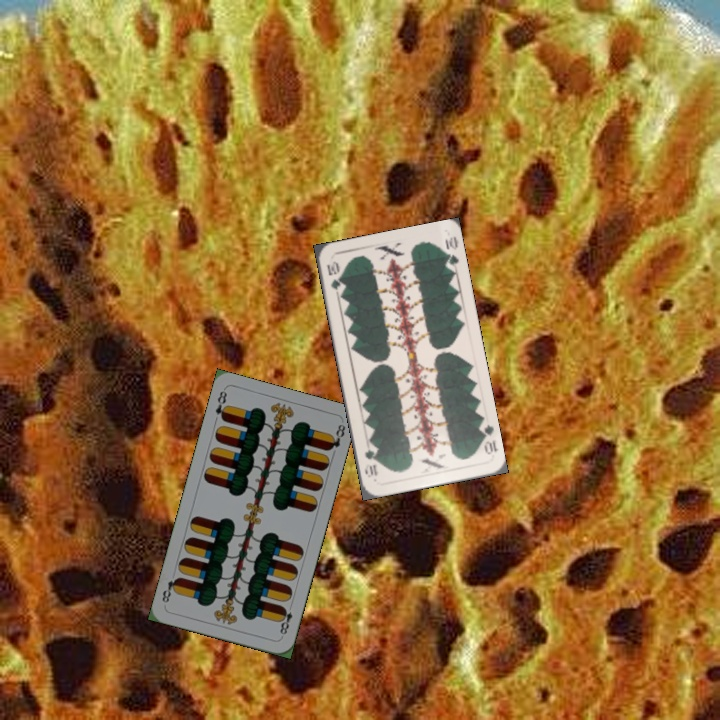E8: (211, 387, 231, 424), (276, 603, 295, 640)
G10: (323, 257, 346, 297), (475, 420, 499, 457)
